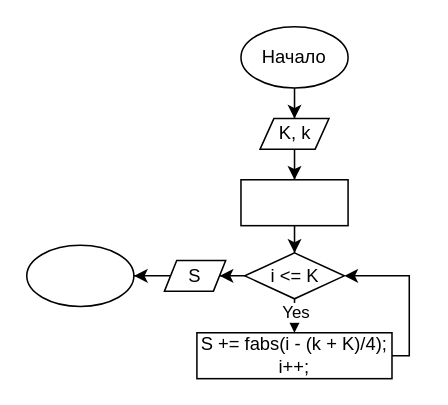
The diagram is 448 pixels wide and 405 high, and some of its shapes have lost their labels. Each missing label, with the box of its shape:
int S = 0; double i = k;: (239, 178, 348, 226)
Конец: (25, 244, 134, 306)
